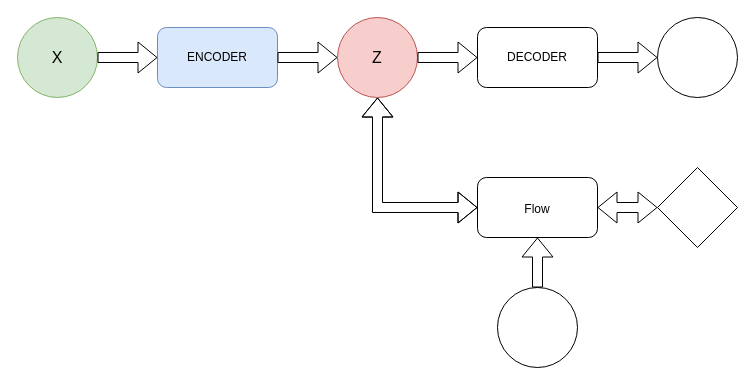
Some shapes in this 755 by 385 pixel diagram are drawn without their labels. Each missing label, with the box of its shape:
Conditional Vector: (496, 286, 578, 368)
N(0,1): (656, 166, 738, 248)
X': (656, 16, 738, 98)
